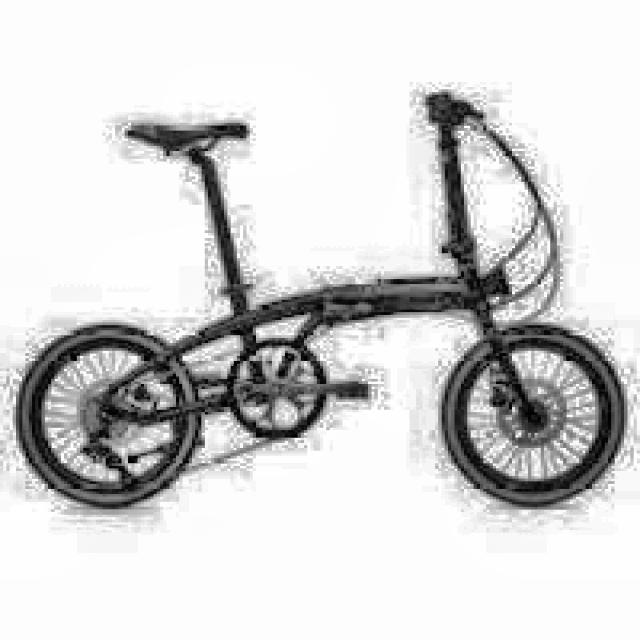motorcycle: (17, 85, 640, 514)
